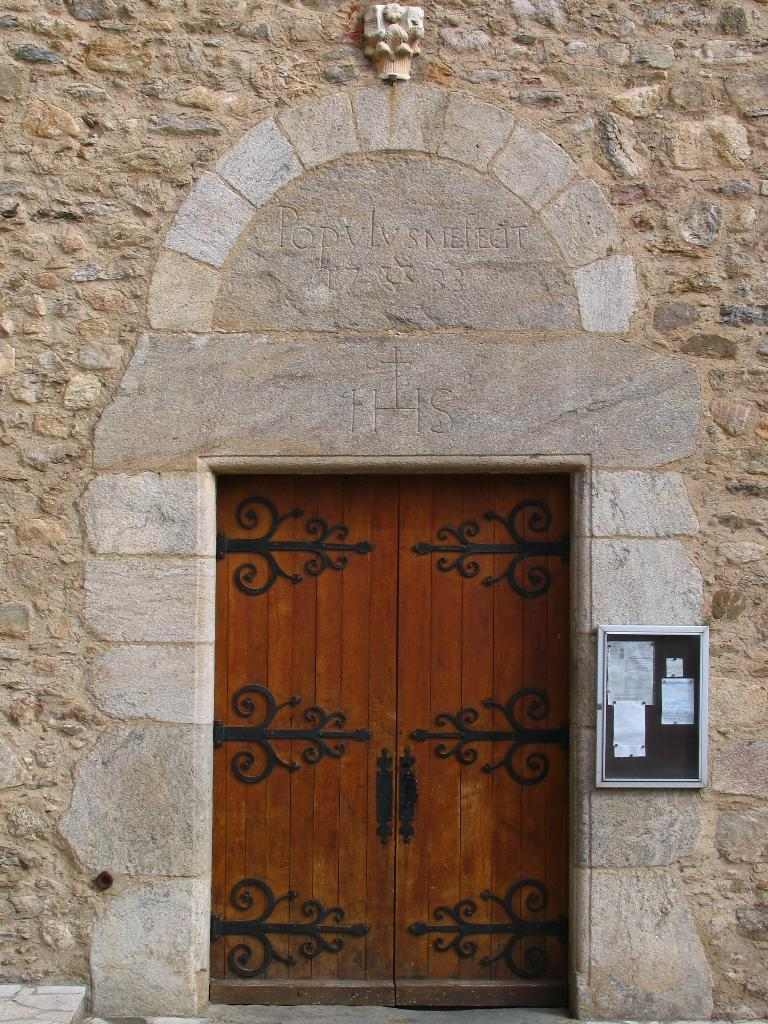door: (222, 481, 392, 990), (400, 475, 566, 988)
handle: (401, 761, 418, 816)
